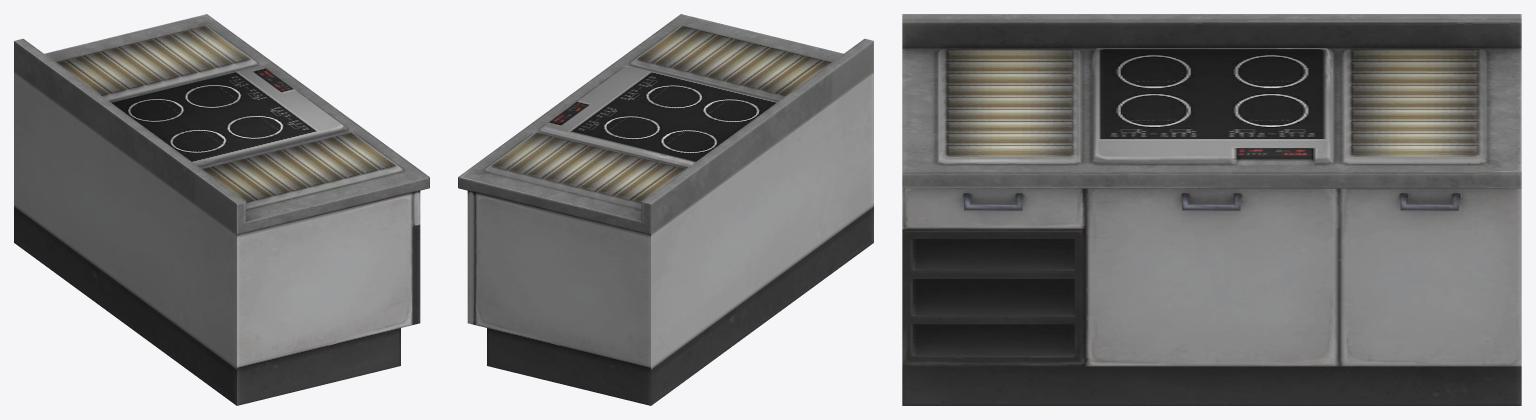
The model's file is Kitchen01.FBX.
3 views of the same model, side by side, from view 1: azimuth 30°, elevation 25°; view 2: azimuth 150°, elevation 25°; view 3: azimuth 270°, elevation 25° (orthographic). The views are drawn at different scales.
Visible parts, largest first — view 1: Kitchen01; view 2: Kitchen01; view 3: Kitchen01.
Boxes of the visible parts, x1,y1,x2,y2 form: Kitchen01: [14, 14, 429, 405]; Kitchen01: [458, 14, 873, 405]; Kitchen01: [902, 14, 1521, 405].
Bounding box in the file's own units: 1 × 1 × 2.
